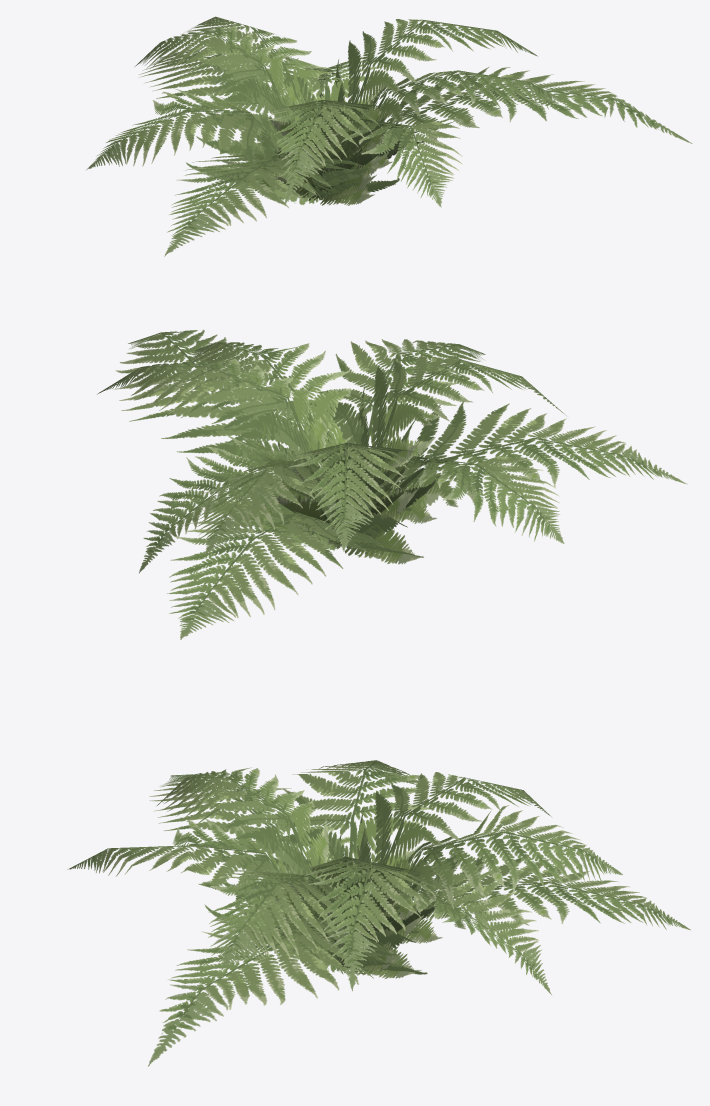
The model's file is fern_bush.glb.
3 views of the same model, one above another, from view 1: azimuth 30°, elevation 25°; view 2: azimuth 150°, elevation 25°; view 3: azimuth 270°, elevation 25° (orthographic). The views are drawn at different scales.
Parts seen in each view (by area): view 1: Object_2; view 2: Object_2; view 3: Object_2.
Boxes of the visible parts, bbox=[...] form: Object_2: bbox=[86, 16, 692, 256]; Object_2: bbox=[97, 329, 687, 639]; Object_2: bbox=[67, 760, 691, 1066].
Bounding box in the file's own units: 2.6 × 0.6654 × 2.3.
Materials: 1 (1 with a texture image).
